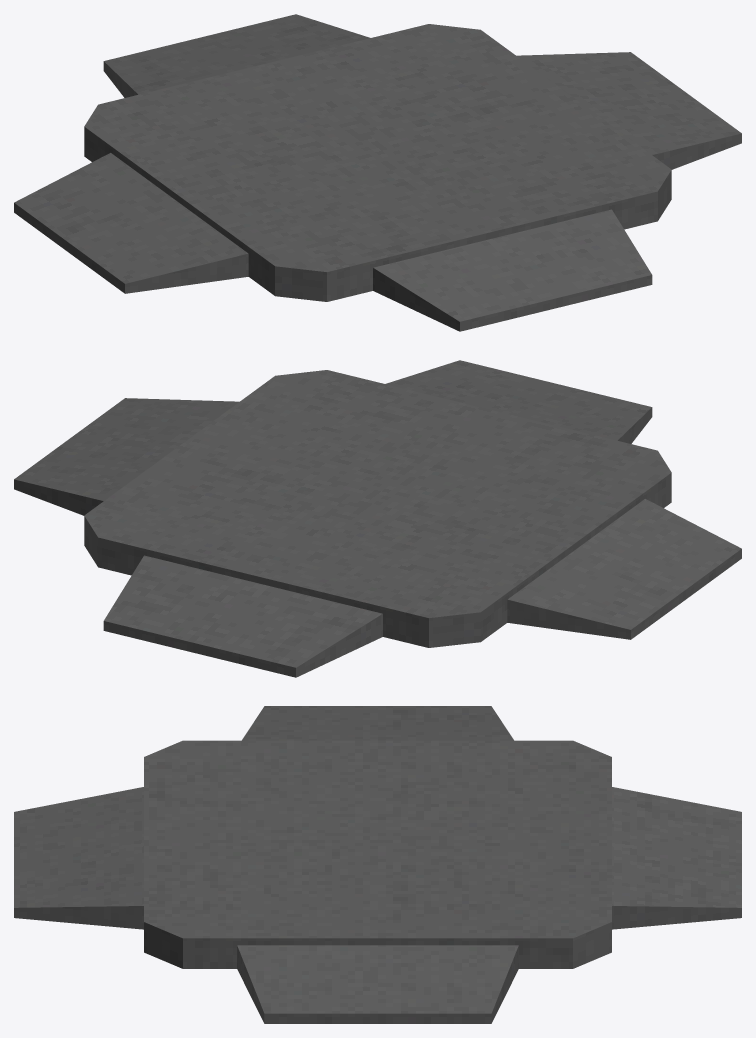
The model's file is MailPoint.fbx.
3 renders of one model, top to bottom at view 1: azimuth 30°, elevation 25°; view 2: azimuth 150°, elevation 25°; view 3: azimuth 270°, elevation 25°, orthographic. The views are drawn at different scales.
Parts seen in each view (by area): view 1: templetterspawnwer; view 2: templetterspawnwer; view 3: templetterspawnwer.
Part boxes in pixels (left/top/right/bottom): templetterspawnwer: left=14, top=14, right=741, bottom=331; templetterspawnwer: left=14, top=360, right=741, bottom=677; templetterspawnwer: left=14, top=706, right=741, bottom=1023.
Size of the model in its own units: 277 by 12.82 by 277.
